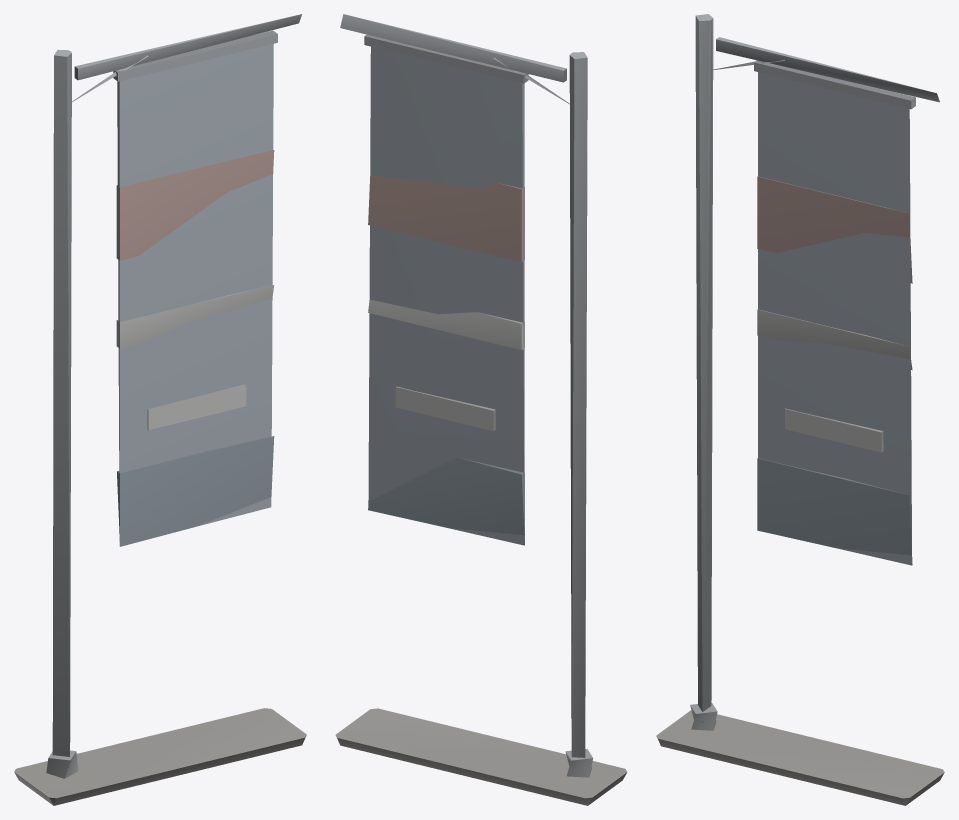
File: banner.lod2.glb
3 renders of one model, left to right at view 1: azimuth 30°, elevation 25°; view 2: azimuth 150°, elevation 25°; view 3: azimuth 330°, elevation 25°, orthographic.
Size of the model in its own units: 1.92 by 5 by 0.5.
